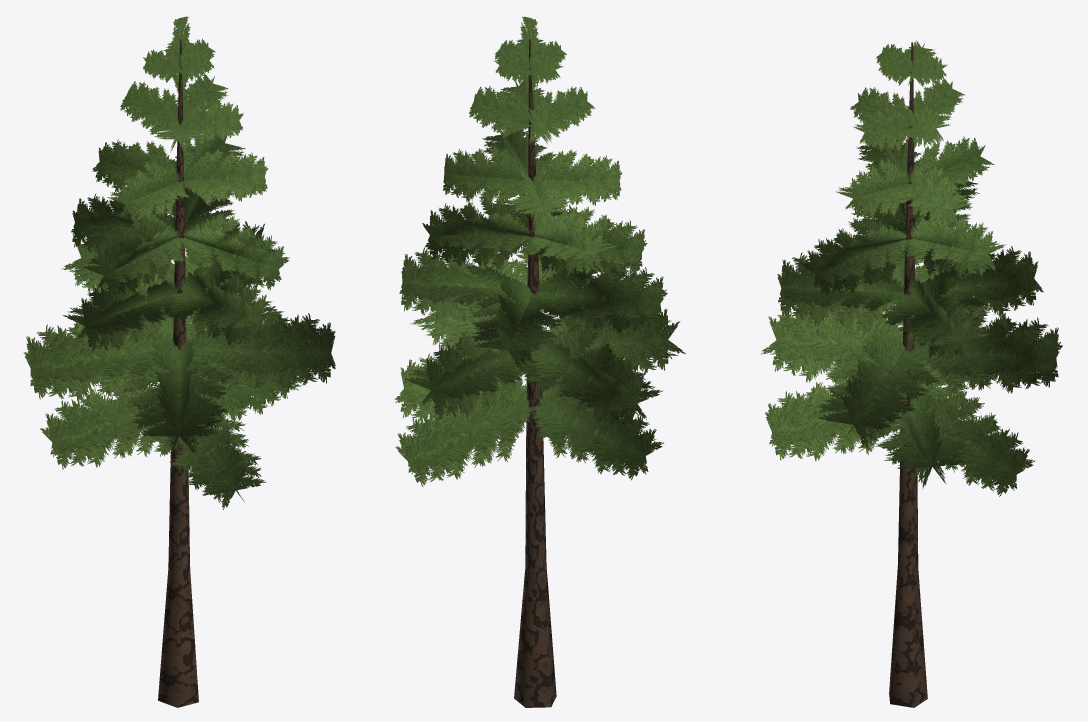
File: pine1_lod1.fbx
3 views of the same model, side by side, from view 1: azimuth 30°, elevation 25°; view 2: azimuth 150°, elevation 25°; view 3: azimuth 270°, elevation 25° (orthographic).
Visible parts, largest first — view 1: pine1_lod1; view 2: pine1_lod1; view 3: pine1_lod1.
Boxes of the visible parts, bbox=[...] form: pine1_lod1: bbox=[23, 16, 335, 707]; pine1_lod1: bbox=[394, 16, 685, 707]; pine1_lod1: bbox=[760, 40, 1062, 707].
Size of the model in its own units: 7.4 by 16.22 by 7.31.
Materials: 2 (2 with a texture image).
